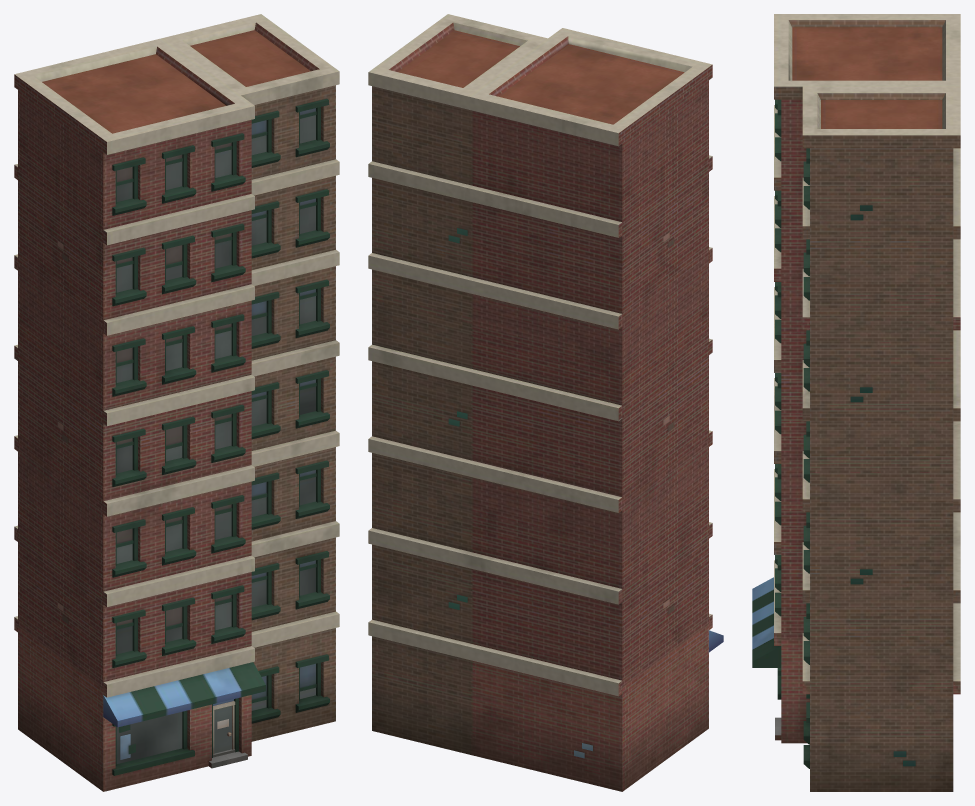
The model's file is building_G_8f.glb.
3 renders of one model, left to right at view 1: azimuth 30°, elevation 25°; view 2: azimuth 150°, elevation 25°; view 3: azimuth 270°, elevation 25°, orthographic.
Parts seen in each view (by area): view 1: ground; view 2: ground; view 3: ground.
Boxes of the visible parts, x1,y1,x2,y2 form: ground: (14,14,339,791); ground: (368,14,723,791); ground: (752,14,960,791).
Bounding box in the file's own units: 2.01 × 5.05 × 1.45.
2 materials, 2 textured.
